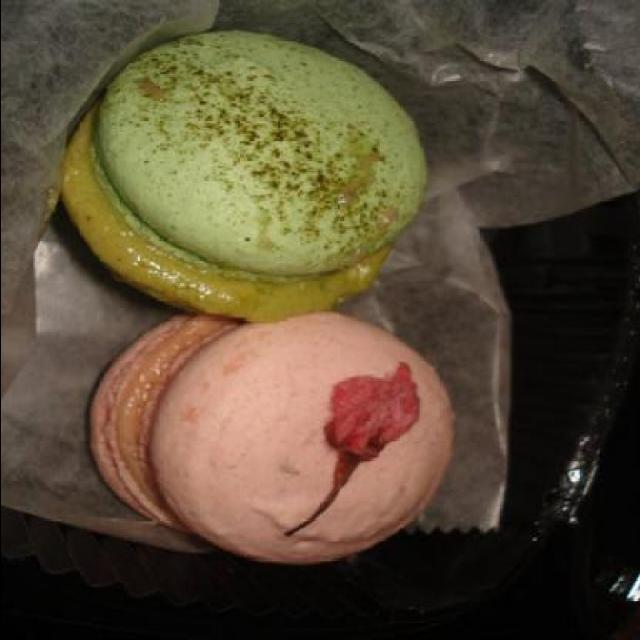Macaron: (52, 28, 460, 568)
